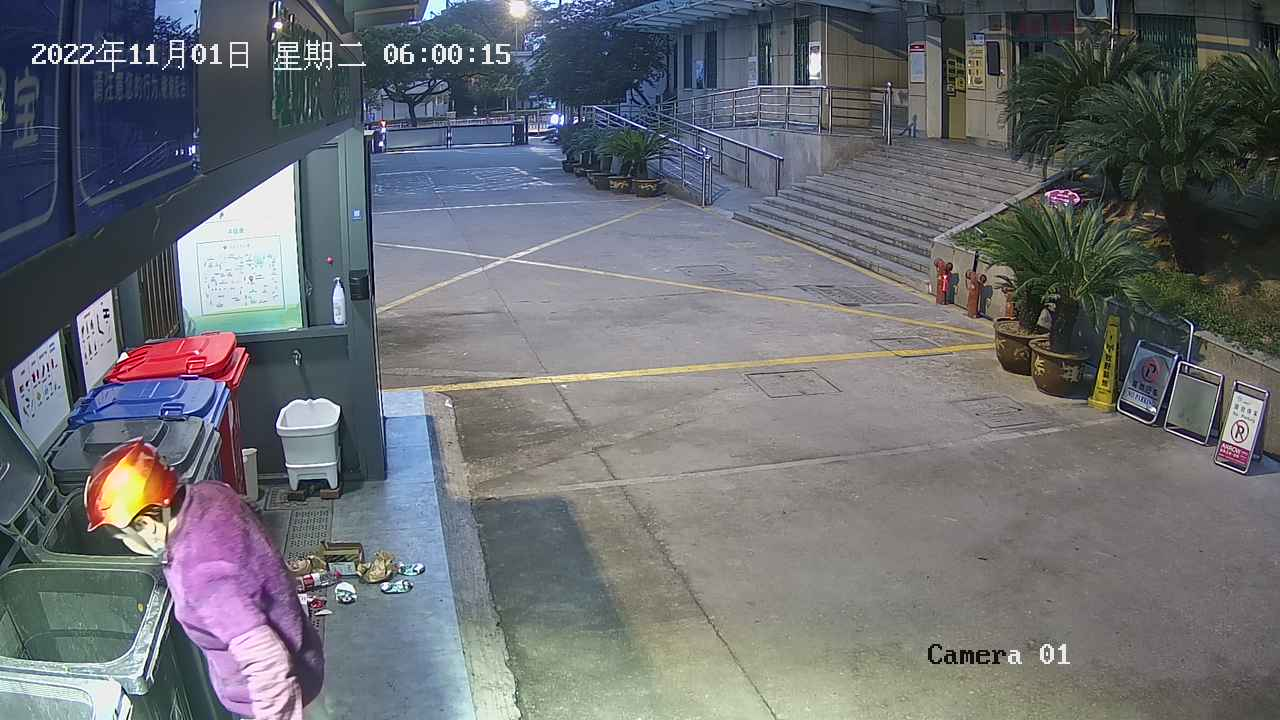lvzhipin: (302, 593, 334, 619), (333, 580, 359, 606), (379, 577, 414, 595), (397, 560, 427, 576)
person: (80, 435, 326, 720)
suliaozhipin: (358, 549, 398, 584), (296, 569, 344, 592)
zhizhipin: (316, 537, 366, 580)
